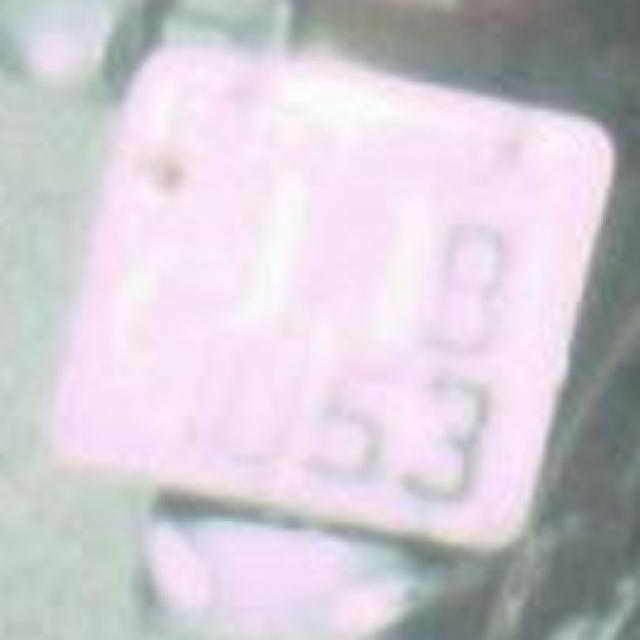3: (376, 352, 509, 516)
5: (285, 336, 400, 496)
7: (0, 1, 1, 2)
B: (408, 204, 520, 351)
O: (131, 144, 224, 288)
